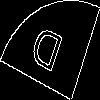D: (25, 24, 65, 82)
